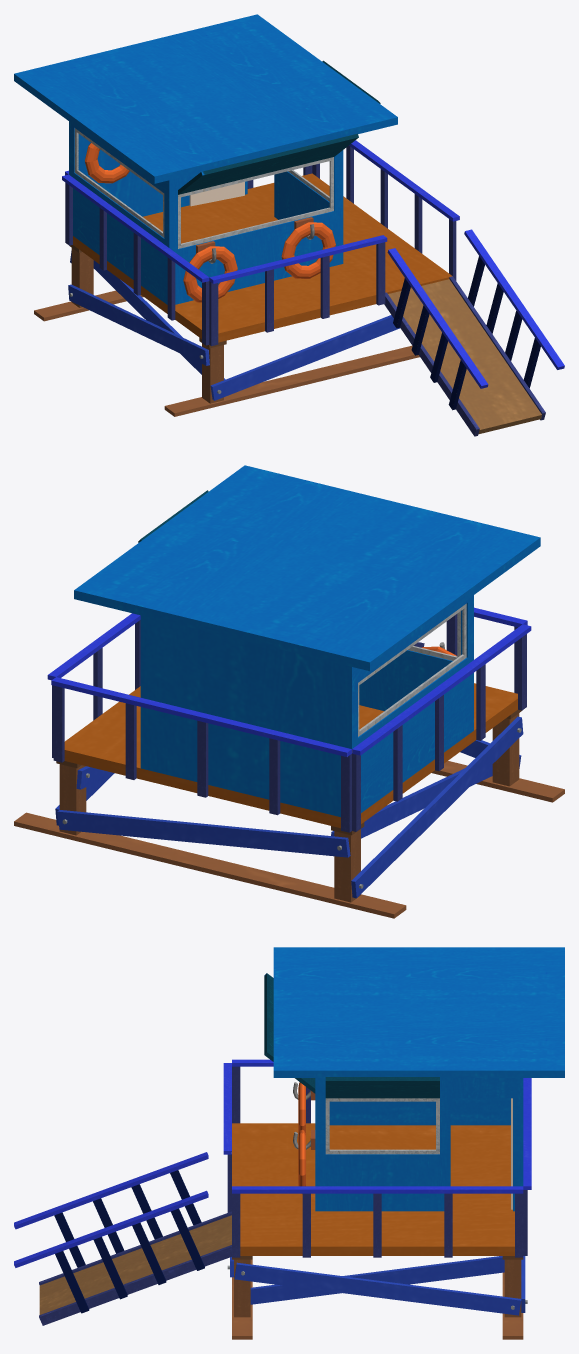
File: Hut.fbx
The picture shows the model from 3 angles, top to bottom: view 1: azimuth 30°, elevation 25°; view 2: azimuth 150°, elevation 25°; view 3: azimuth 270°, elevation 25°; orthographic projection. The views are drawn at different scales.
Visible parts, largest first — view 1: pCube119; view 2: pCube119; view 3: pCube119.
Boxes of the visible parts, box(x1,y1,x2,y2) form: pCube119: box(14, 14, 564, 436); pCube119: box(14, 465, 564, 918); pCube119: box(14, 947, 564, 1339).
Bounding box in the file's own units: 549 × 384 × 807.
